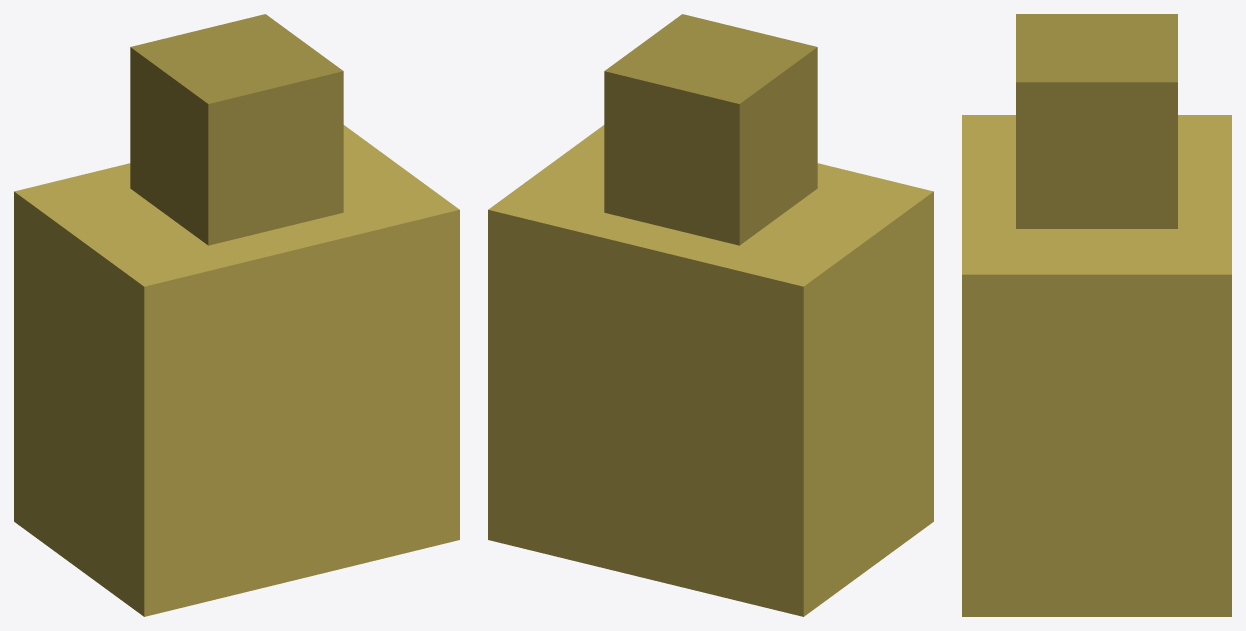
The model's file is instrumento_musical_desgastada_01.glb.
3 renders of one model, left to right at view 1: azimuth 30°, elevation 25°; view 2: azimuth 150°, elevation 25°; view 3: azimuth 270°, elevation 25°, orthographic. The views are drawn at different scales.
Visible parts, largest first — view 1: instrumento_musical_desgastada; view 2: instrumento_musical_desgastada; view 3: instrumento_musical_desgastada.
Boxes of the visible parts, bbox=[...] form: instrumento_musical_desgastada: bbox=[14, 14, 459, 616]; instrumento_musical_desgastada: bbox=[488, 14, 933, 616]; instrumento_musical_desgastada: bbox=[962, 14, 1231, 616].
Bounding box in the file's own units: 0.5 × 0.7143 × 0.3571.
